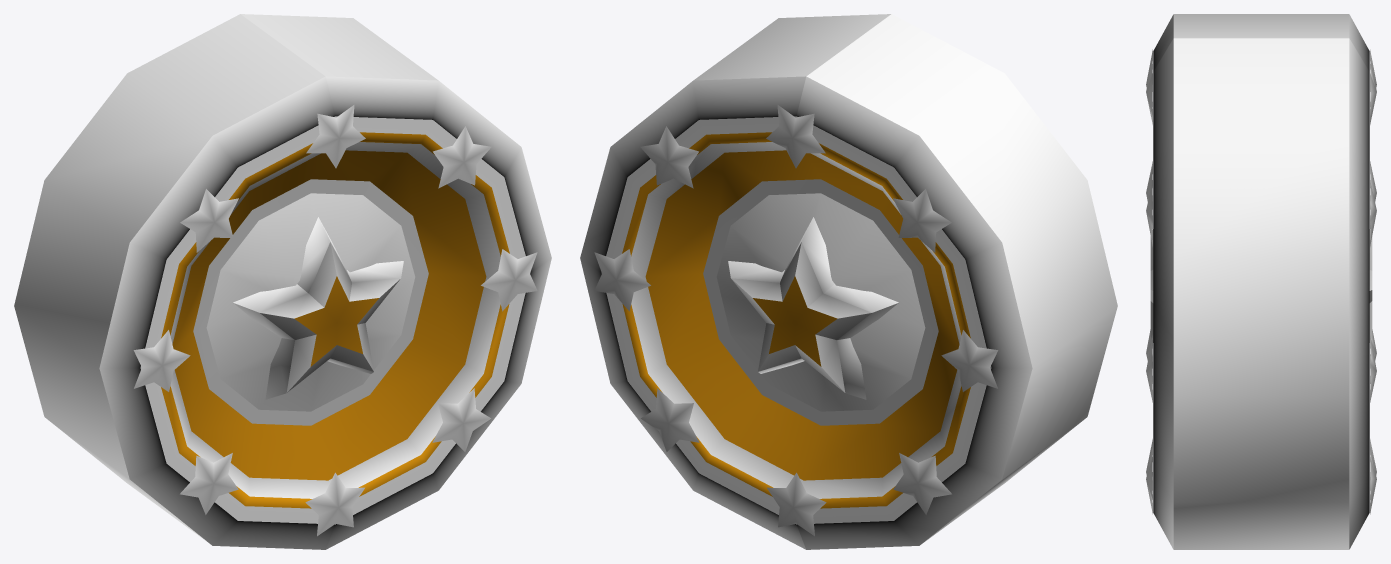
File: obj_dekotora_xlwheel_lod1.fbx
3 views of the same model, side by side, from view 1: azimuth 30°, elevation 25°; view 2: azimuth 150°, elevation 25°; view 3: azimuth 270°, elevation 25° (orthographic). The views are drawn at different scales.
Visible parts, largest first — view 1: Cylinder.050, Cylinder.051, Cylinder.053, Cylinder.052; view 2: Cylinder.050, Cylinder.051, Cylinder.053, Cylinder.052; view 3: Cylinder.051, Cylinder.053, Cylinder.052.
Part boxes in pixels (x1,y1,x2,y2): Cylinder.050: (140,116,530,524); Cylinder.051: (14,14,551,549); Cylinder.053: (133,105,537,536); Cylinder.052: (233,217,403,399); Cylinder.050: (601,116,991,524); Cylinder.051: (580,14,1117,549); Cylinder.053: (594,105,998,536); Cylinder.052: (728,217,898,399); Cylinder.051: (1153,14,1369,549); Cylinder.053: (1146,49,1376,514); Cylinder.052: (1150,229,1372,342).
Bounding box in the file's own units: 5 × 5 × 2.15.
